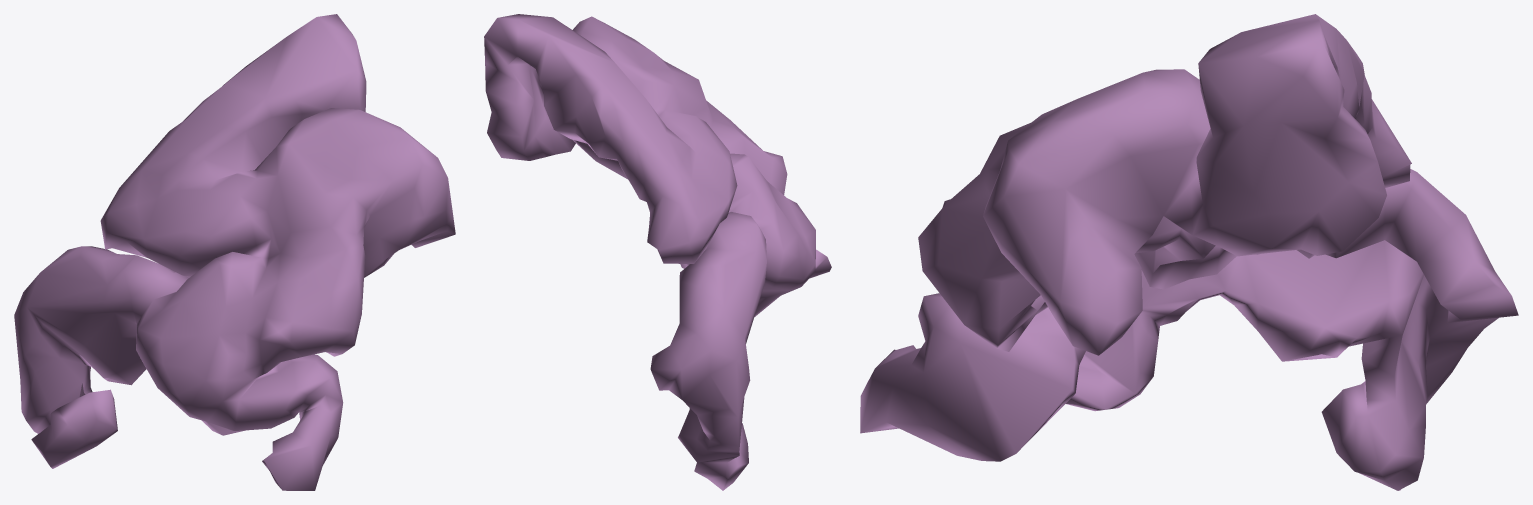
3 renders of one model, left to right at view 1: azimuth 30°, elevation 25°; view 2: azimuth 150°, elevation 25°; view 3: azimuth 270°, elevation 25°, orthographic. The views are drawn at different scales.
Visible parts, largest first — view 1: 右侧角回; view 2: 右侧角回; view 3: 右侧角回.
Part boxes in pixels (left/top/right/bottom): 右侧角回: left=14, top=14, right=455, bottom=490; 右侧角回: left=484, top=14, right=831, bottom=490; 右侧角回: left=860, top=14, right=1518, bottom=490.
Size of the model in its own units: 0.0636 by 0.0764 by 0.0697.
